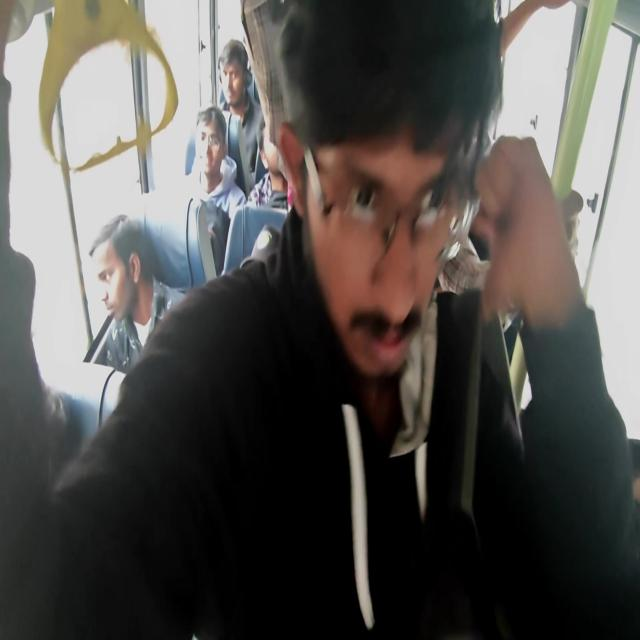person: (305, 100, 467, 384), (243, 110, 302, 272), (51, 384, 104, 454), (94, 233, 130, 324), (193, 103, 230, 179), (218, 37, 250, 103)
